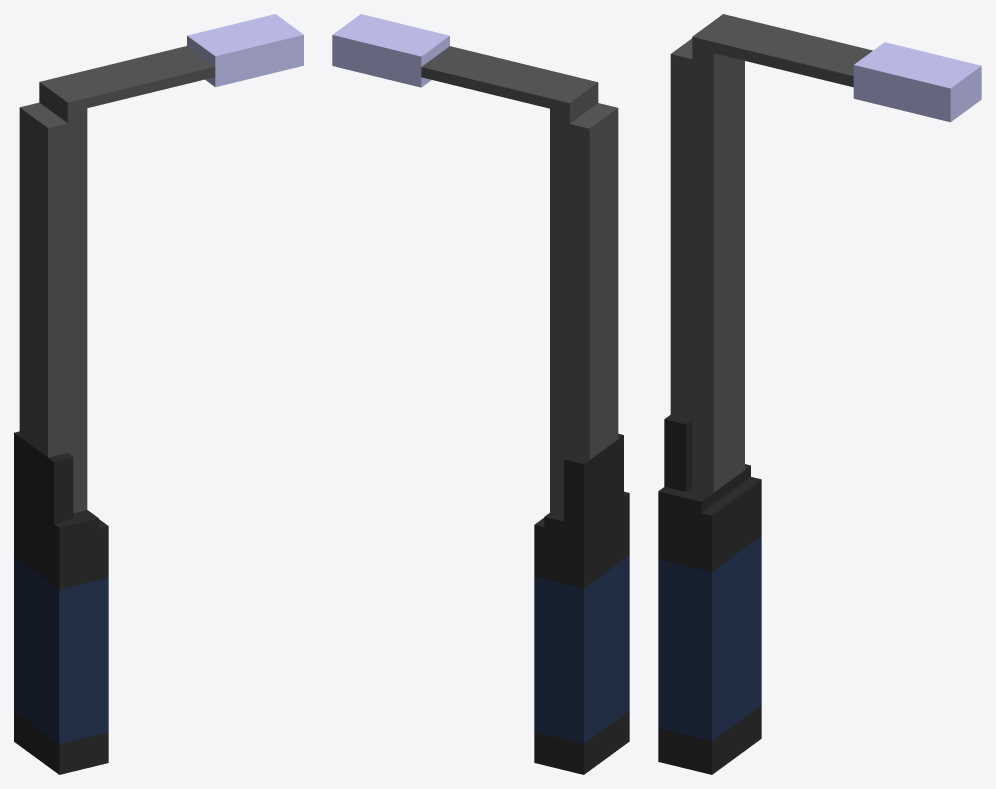
The model's file is pole 2.obj.
3 renders of one model, left to right at view 1: azimuth 30°, elevation 25°; view 2: azimuth 150°, elevation 25°; view 3: azimuth 330°, elevation 25°, orthographic. The views are drawn at different scales.
Bounding box in the file's own units: 2.6 × 6.5 × 0.8.
